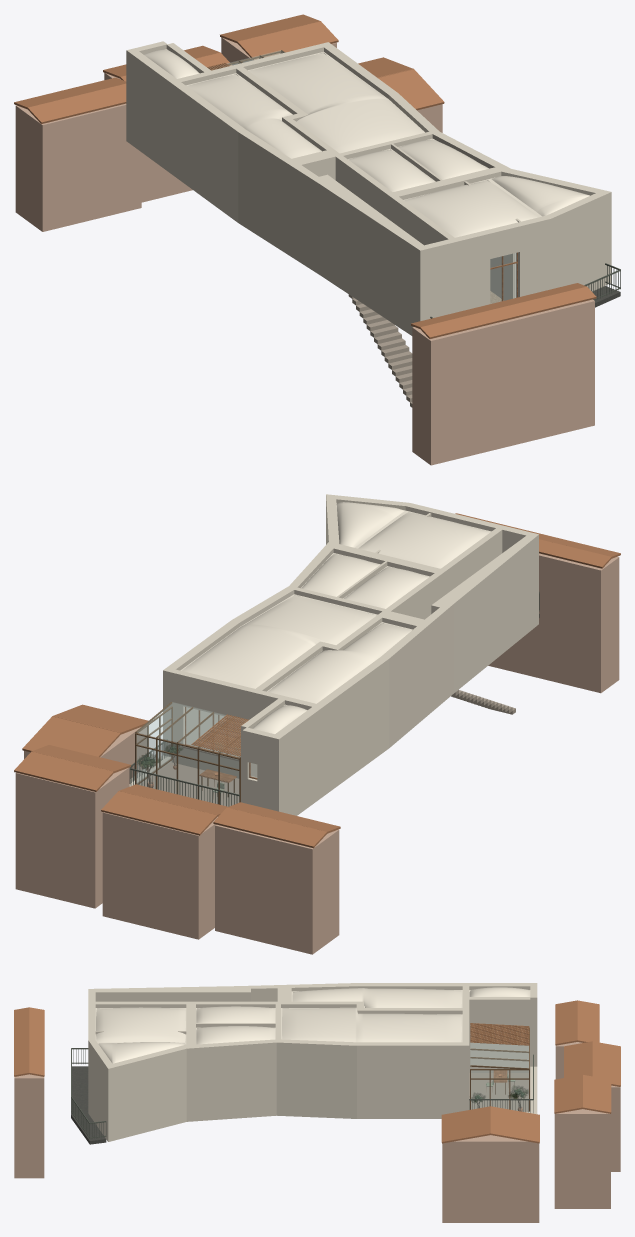
3 views of the same model, one above another, from view 1: azimuth 30°, elevation 25°; view 2: azimuth 150°, elevation 25°; view 3: azimuth 270°, elevation 25° (orthographic). The views are drawn at different scales.
Visible parts, largest first — view 1: Murature DOCFA.007, Fabbricato vicino indicativo.004, Fabbricato vicino indicativo, Murature DOCFA.002, Volta ribassata indicativa.002, Murature DOCFA.003, Murature DOCFA.001, Volta ribassata indicativa.005, Volta ribassata indicativa.001, Murature DOCFA.006, Falda vicina.009, Falda vicina.005 (+14 smaller); view 2: Murature DOCFA.007, Fabbricato vicino indicativo, Fabbricato vicino indicativo.001, Fabbricato vicino indicativo.004, Fabbricato vicino indicativo.002, Volta ribassata indicativa.002, Murature DOCFA.002, Murature DOCFA.003, Murature DOCFA.001, Volta ribassata indicativa.001, Volta ribassata indicativa.005, Falda vicina.002 (+23 smaller); view 3: Murature DOCFA.007, Murature DOCFA.002, Fabbricato vicino indicativo.003, Volta ribassata indicativa.002, Fabbricato vicino indicativo.002, Murature DOCFA.003, Murature DOCFA.001, Fabbricato vicino indicativo.004, Volta ribassata indicativa.005, Volta ribassata indicativa.001, Murature DOCFA.006, Murature DOCFA (+24 smaller).
Boxes of the visible parts, bbox=[...] form: Murature DOCFA.007: bbox=[126, 41, 611, 275]; Fabbricato vicino indicativo.004: bbox=[412, 299, 594, 465]; Fabbricato vicino indicativo: bbox=[15, 103, 141, 231]; Murature DOCFA.002: bbox=[126, 98, 611, 321]; Volta ribassata indicativa.002: bbox=[249, 53, 423, 153]; Murature DOCFA.003: bbox=[126, 82, 611, 298]; Murature DOCFA.001: bbox=[126, 123, 611, 330]; Volta ribassata indicativa.005: bbox=[404, 180, 538, 237]; Volta ribassata indicativa.001: bbox=[187, 74, 321, 158]; Murature DOCFA.006: bbox=[126, 76, 611, 281]; Falda vicina.009: bbox=[420, 286, 596, 338]; Falda vicina.005: bbox=[237, 21, 338, 60]; Murature DOCFA.007: bbox=[163, 494, 538, 764]; Fabbricato vicino indicativo: bbox=[215, 824, 339, 954]; Fabbricato vicino indicativo.001: bbox=[102, 812, 217, 939]; Fabbricato vicino indicativo.004: bbox=[488, 553, 619, 693]; Fabbricato vicino indicativo.002: bbox=[15, 767, 129, 908]; Volta ribassata indicativa.002: bbox=[182, 595, 376, 688]; Murature DOCFA.002: bbox=[163, 543, 538, 810]; Murature DOCFA.003: bbox=[163, 527, 538, 786]; Murature DOCFA.001: bbox=[163, 606, 538, 814]; Volta ribassata indicativa.001: bbox=[268, 623, 411, 703]; Volta ribassata indicativa.005: bbox=[358, 512, 490, 568]; Falda vicina.002: bbox=[101, 791, 216, 835]; Murature DOCFA.007: bbox=[88, 983, 537, 1089]; Murature DOCFA.002: bbox=[88, 1036, 537, 1127]; Fabbricato vicino indicativo.003: bbox=[442, 1135, 539, 1222]; Volta ribassata indicativa.002: bbox=[282, 1007, 461, 1042]; Fabbricato vicino indicativo.002: bbox=[554, 1109, 610, 1208]; Murature DOCFA.003: bbox=[88, 1023, 537, 1107]; Murature DOCFA.001: bbox=[88, 1056, 537, 1137]; Fabbricato vicino indicativo.004: bbox=[14, 1074, 44, 1178]; Volta ribassata indicativa.005: bbox=[96, 1007, 185, 1042]; Volta ribassata indicativa.001: bbox=[292, 988, 461, 1007]; Murature DOCFA.006: bbox=[88, 1007, 537, 1093]; Murature DOCFA: bbox=[88, 1066, 537, 1141].
Bounding box in the file's own units: 16.21 × 8.19 × 31.84.
34 materials, 6 textured.
